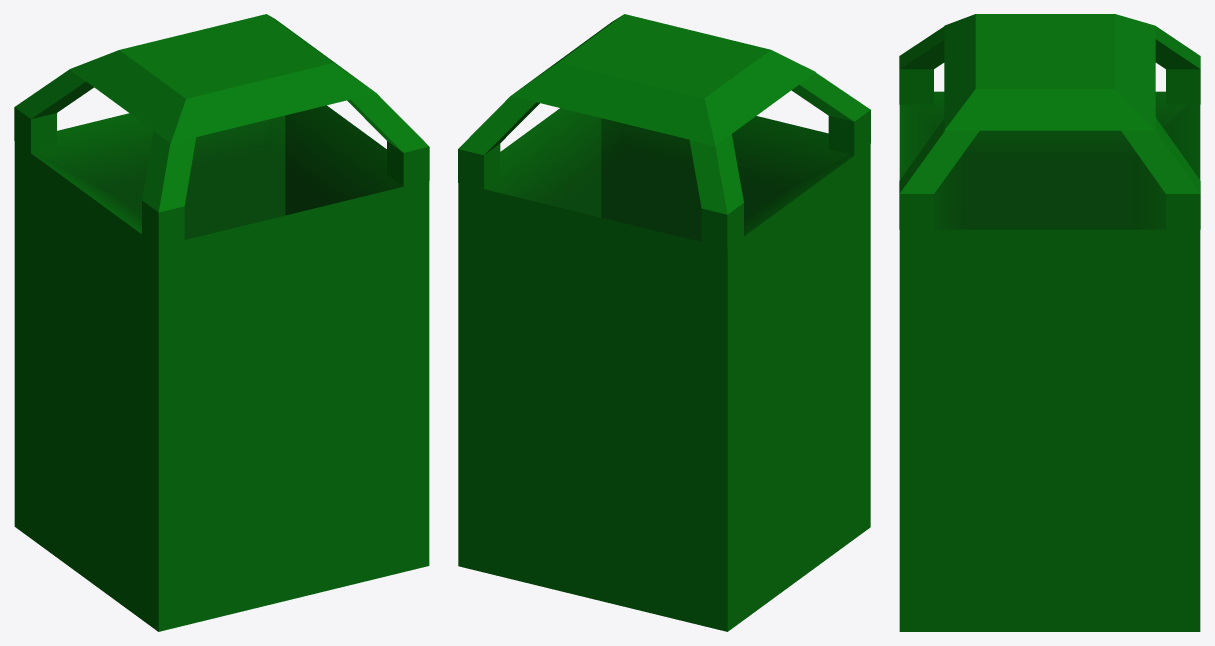
Rendered from bin.glb.
3 renders of one model, left to right at view 1: azimuth 30°, elevation 25°; view 2: azimuth 150°, elevation 25°; view 3: azimuth 270°, elevation 25°, orthographic. The views are drawn at different scales.
Parts seen in each view (by area): view 1: bin.obj; view 2: bin.obj; view 3: bin.obj.
Boxes of the visible parts, x1=… form: bin.obj: x1=14, y1=14, x2=429, y2=631; bin.obj: x1=458, y1=14, x2=870, y2=631; bin.obj: x1=899, y1=14, x2=1200, y2=631.
Size of the model in its own units: 1.25 by 2.17 by 1.15.
Materials: 3 (2 with a texture image).
